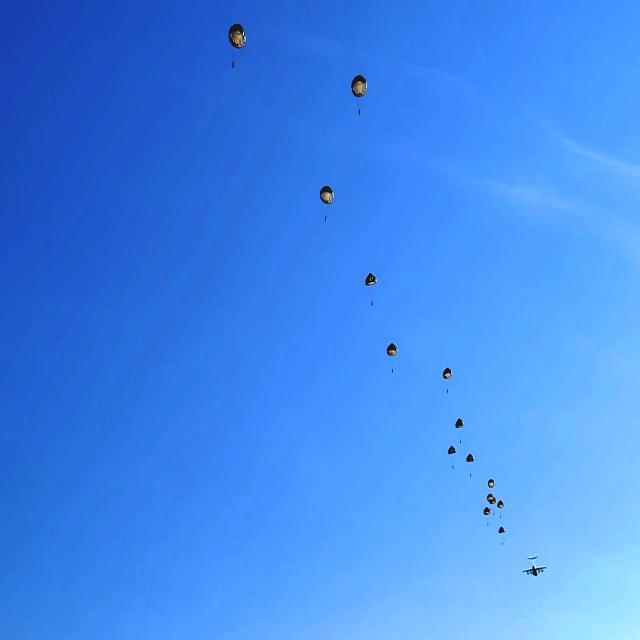Aircraft: (524, 562, 548, 578)
